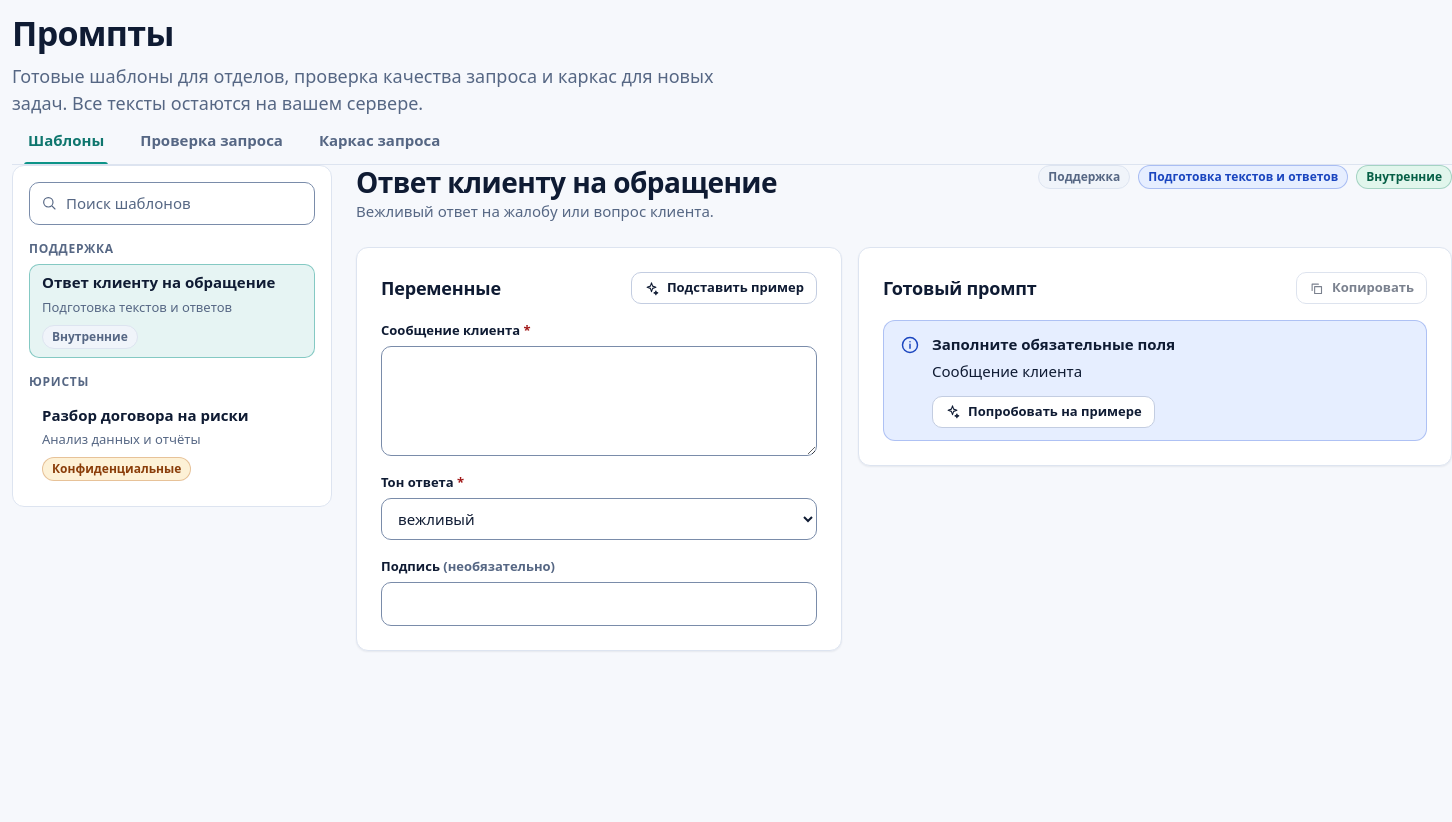
Scenario: PromptsPage: шаблоны › «Подставить пример» заполняет поля примерами переменных
Expected: the heading "Ответ клиенту на обращение" is shown, [356,165,777,200]
Click the button "Подставить пример" at (724, 288), box [631,272,817,304]
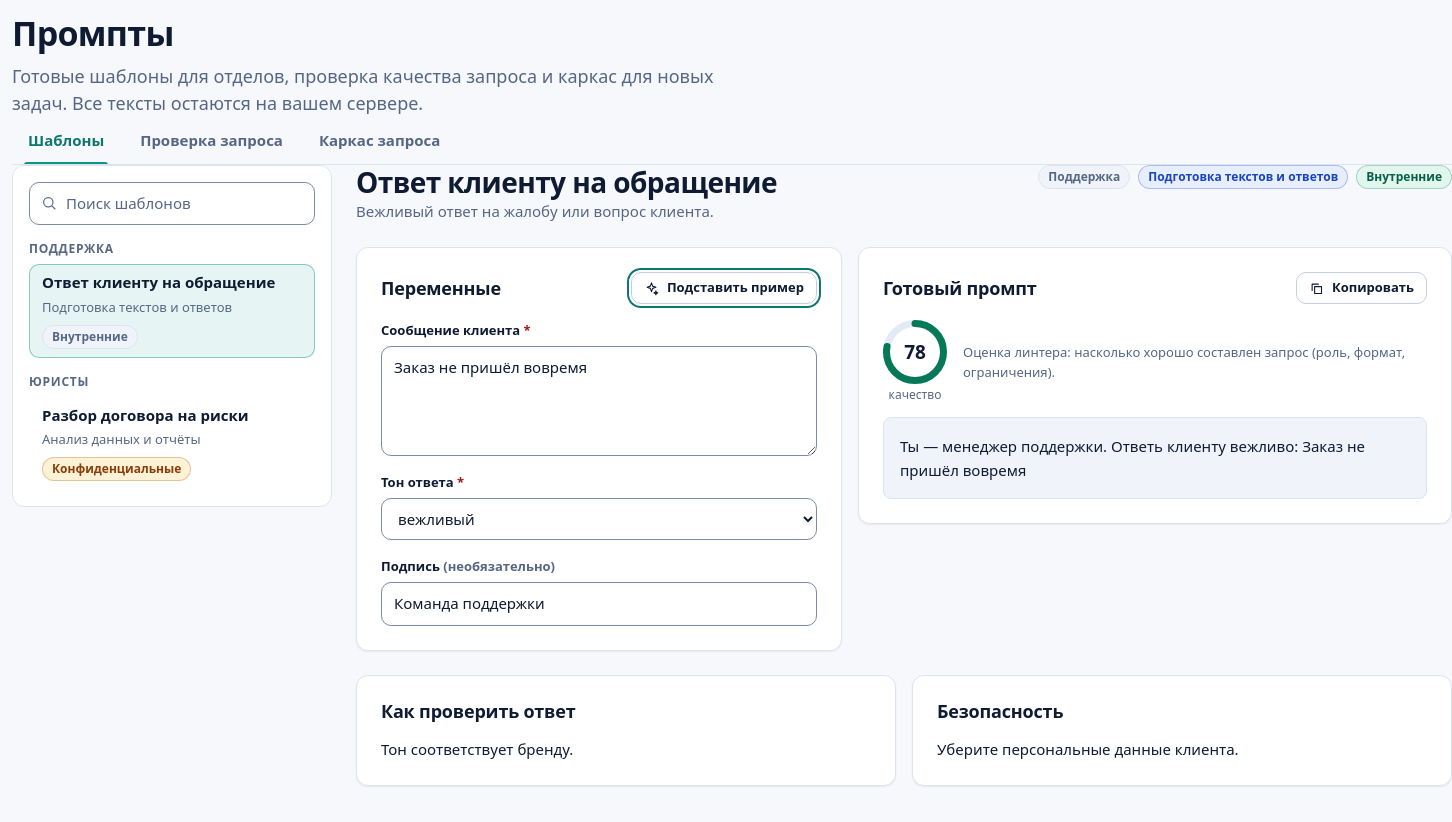
Result: the text box labelled "Сообщение клиента *" holds "Заказ не пришёл вовремя" at [381,346,817,456]
Result: the field labelled "Подпись (необязательно)" holds "Команда поддержки" at [381,582,817,626]
Result: the text with test id "rendered-prompt" is shown at [883,417,1427,499]
